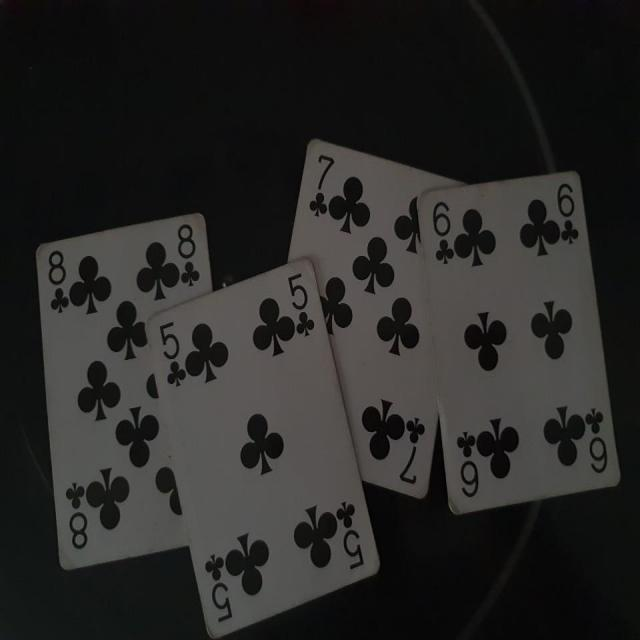5 Trefoils: (145, 258, 380, 640)
6 Trefoils: (416, 169, 623, 514)
7 Trefoils: (286, 138, 471, 501)
8 Trefoils: (36, 213, 212, 572)
